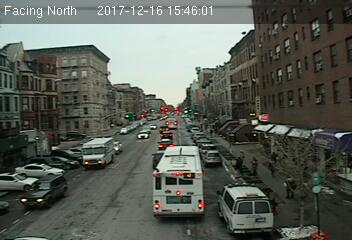bus: (150, 145, 206, 218)
car: (18, 175, 68, 209), (204, 150, 221, 165)
police: (216, 181, 274, 235)
truck: (81, 137, 116, 168)
